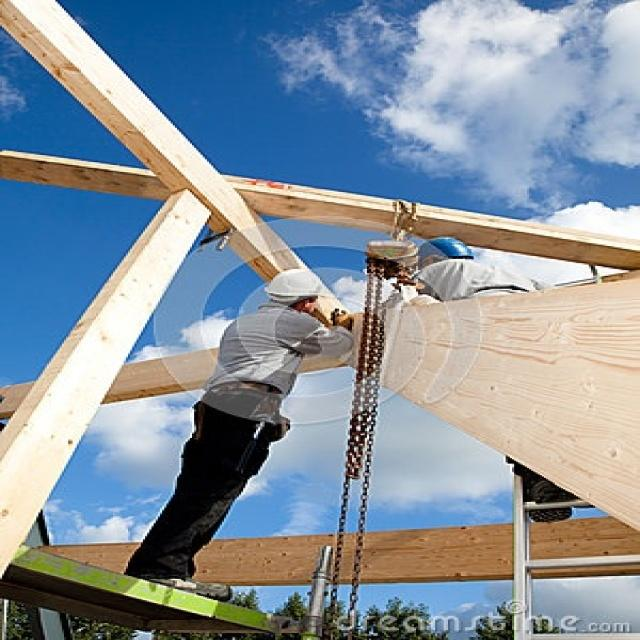helmet: (256, 356, 324, 417), (417, 311, 470, 364)
